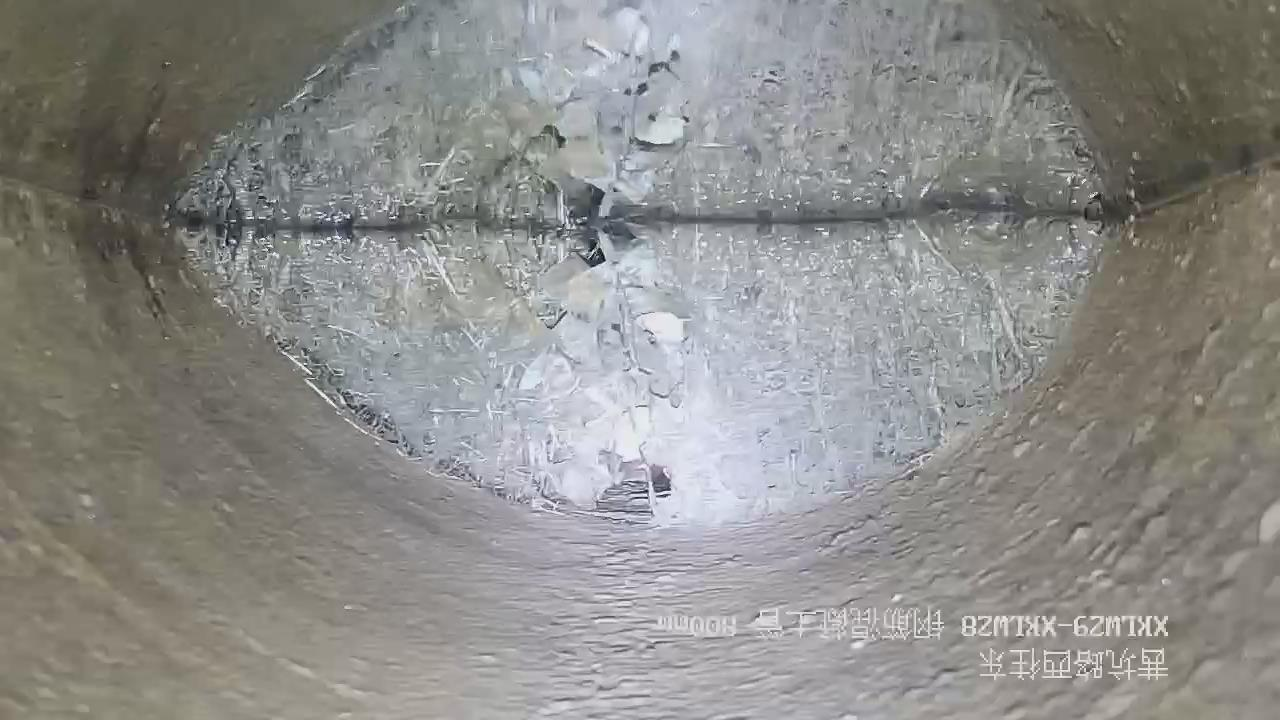SG: (202, 214, 1102, 526)
